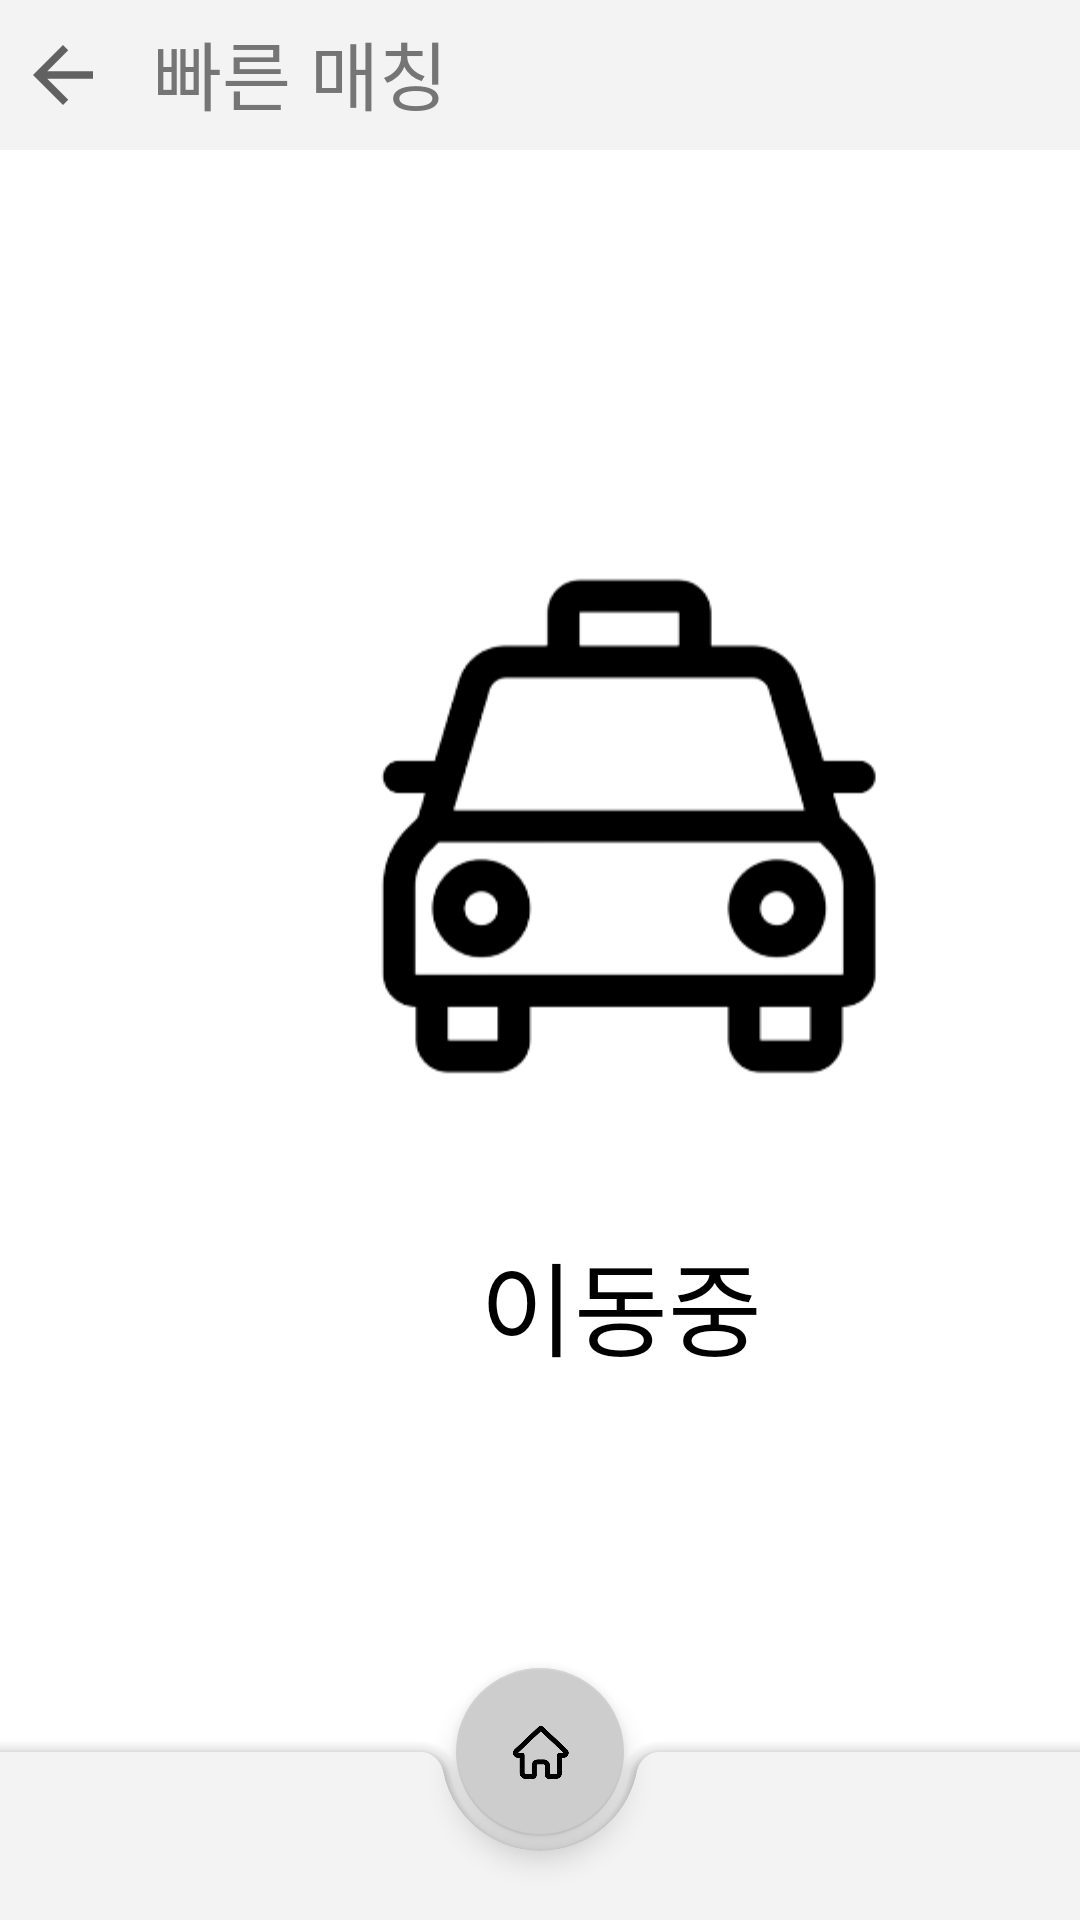

Icon click points for this 1080px x 1920px phone screenshot, format (x=x, y=y):
homebutton: (x=540, y=1752)
